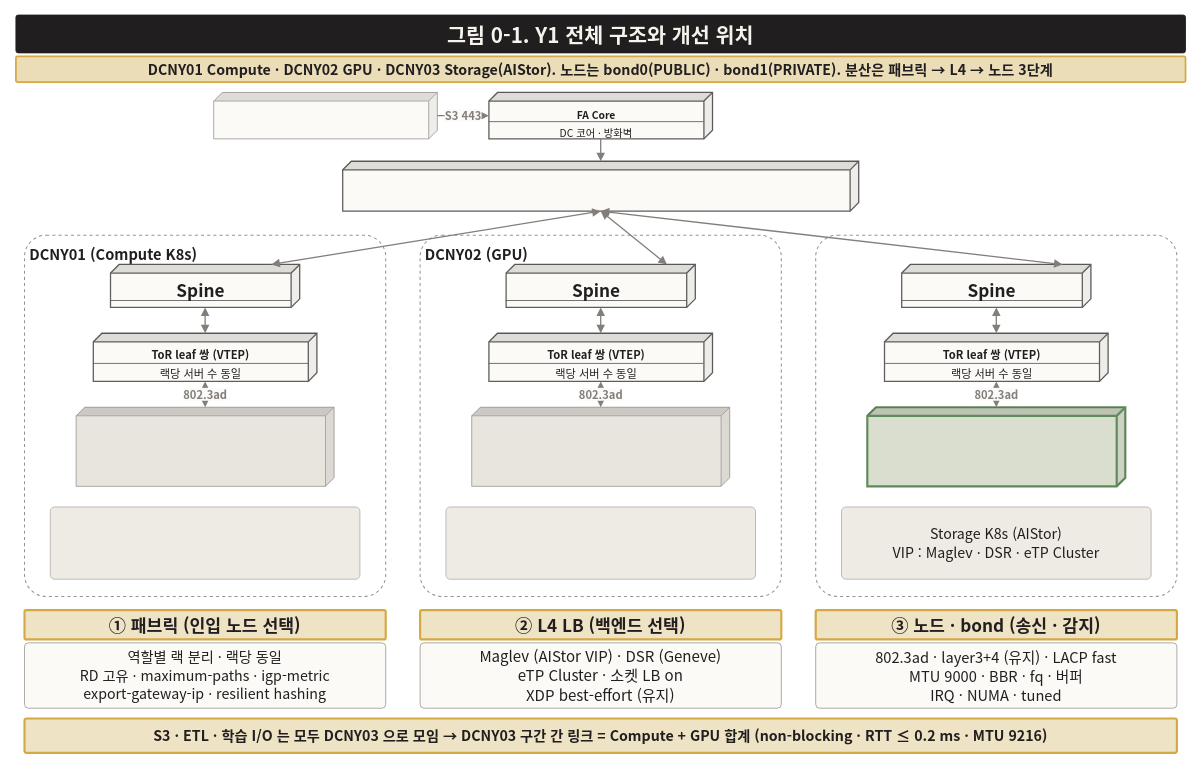
Some shapes in this 1201 by 769 pixel diagram are drawn without their labels. The shapes that lost their labels are listed below. From the top down, each one's box as (x1, y1, x2, y2) in pixels, then its label:
(213, 92, 437, 139): 외부 ETL client 원천 소스
(342, 160, 859, 211): Super Spine (세 구간에 걸친 같은 패브릭) Border · VRF PUBLIC / PRIVATE
(815, 234, 1177, 596): DCNY03 (Storage K8s)
(75, 406, 334, 486): Compute 노드 Spark · Airflow · ETL bond0 · bond1
(471, 406, 730, 486): GPU 노드 AI 학습 · 추론 bond0 · bond1
(866, 406, 1126, 487): AIStor 노드 VIP /32 BGP 광고 bond0 · bond1
(49, 506, 360, 579): Compute K8s (Cilium) Pod → AIStor : 소켓 LB 직결
(445, 506, 756, 579): GPU K8s (Cilium 1.20.2) ClusterMesh 로 AIStor 직결
